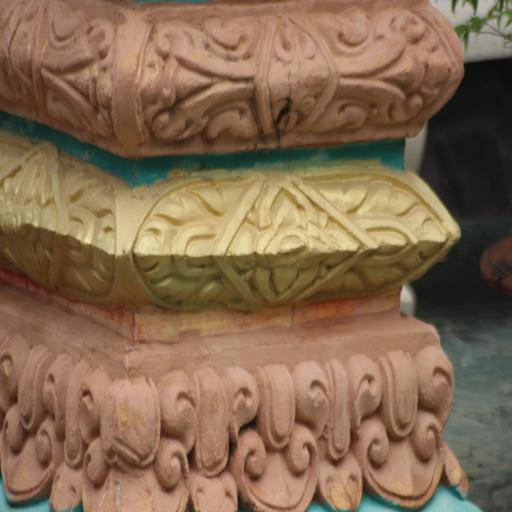la: (134, 13, 460, 142), (130, 173, 457, 294), (0, 138, 123, 305), (0, 0, 124, 137), (233, 351, 331, 512), (356, 353, 458, 505), (164, 357, 256, 512), (307, 349, 382, 512), (42, 349, 111, 512), (0, 331, 60, 512), (88, 371, 163, 512)
